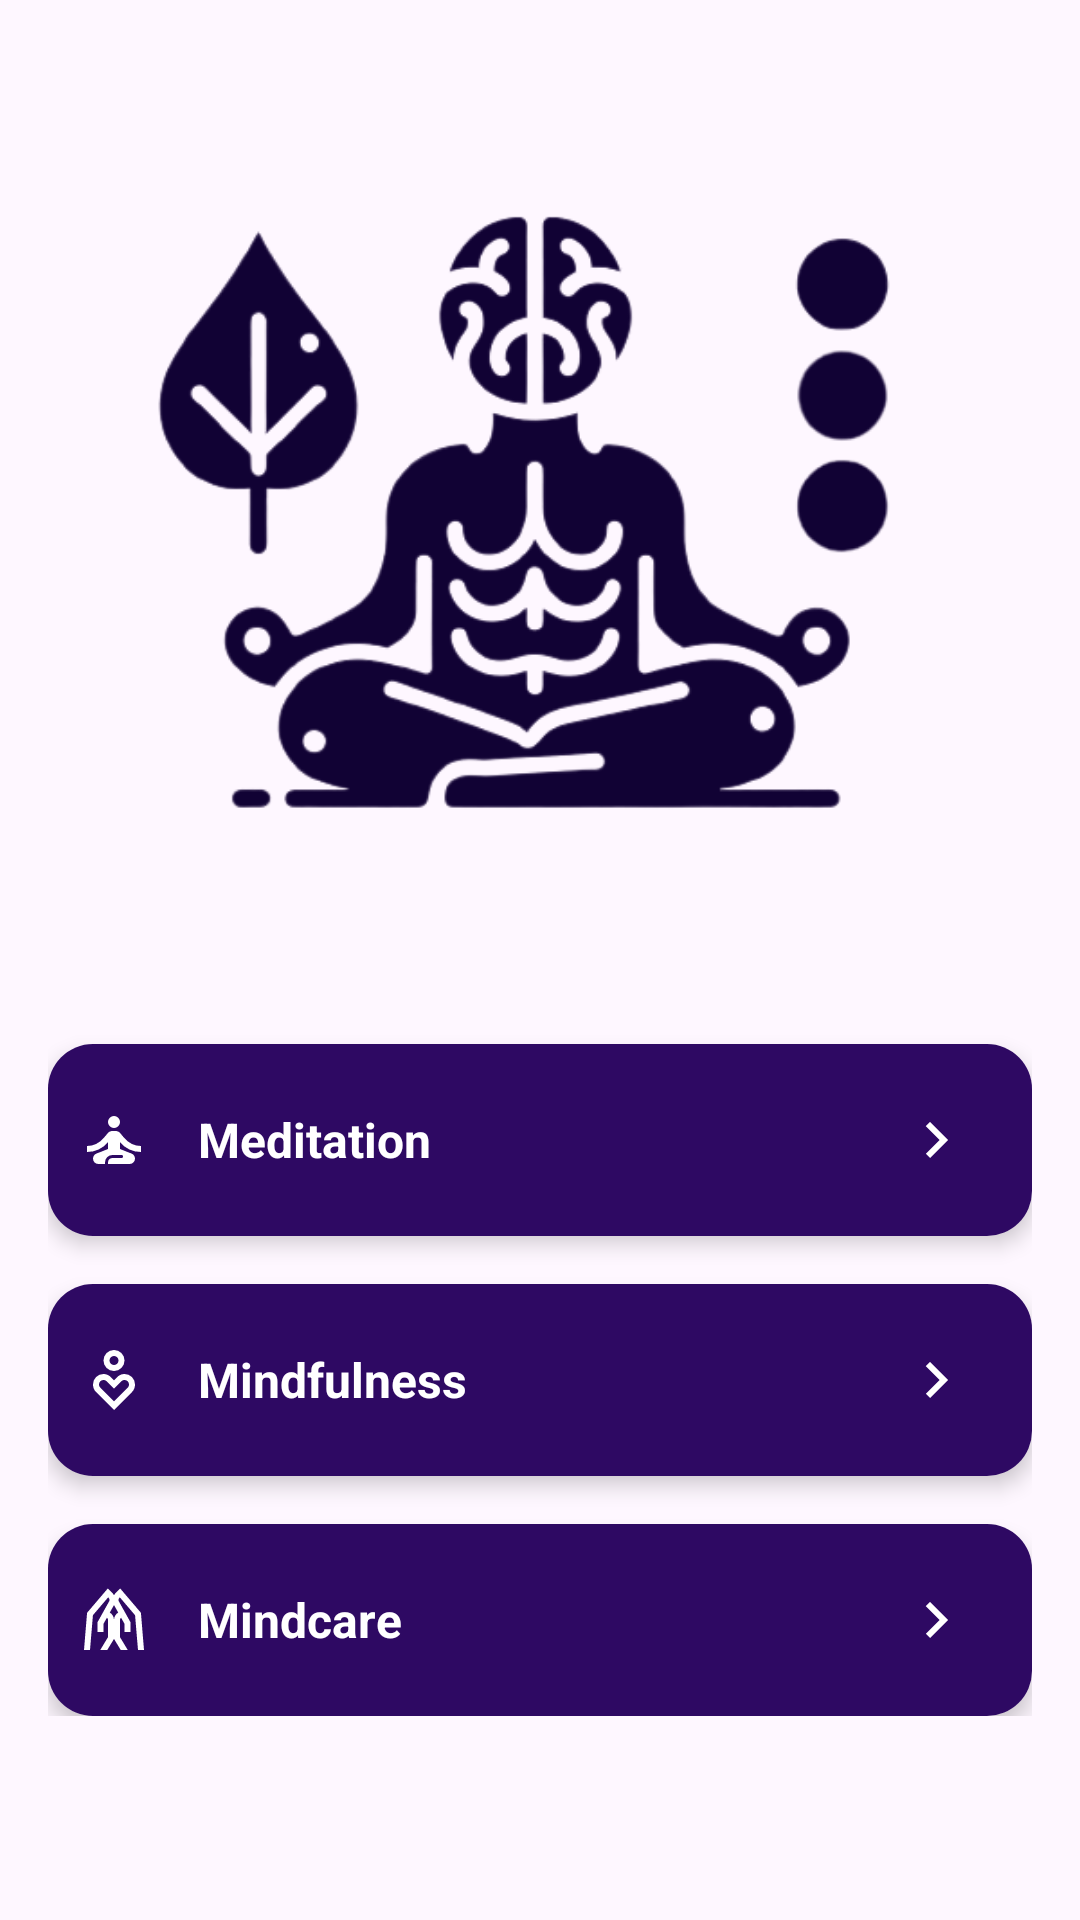

Icon bounding boxes for this 1080*1920 phone screenshot, format (x1,y1,x2,y2):
Exercises: (87,1116,141,1164)
right arrow: (926,1122,948,1158), (926,1362,948,1398), (926,1602,948,1638)
